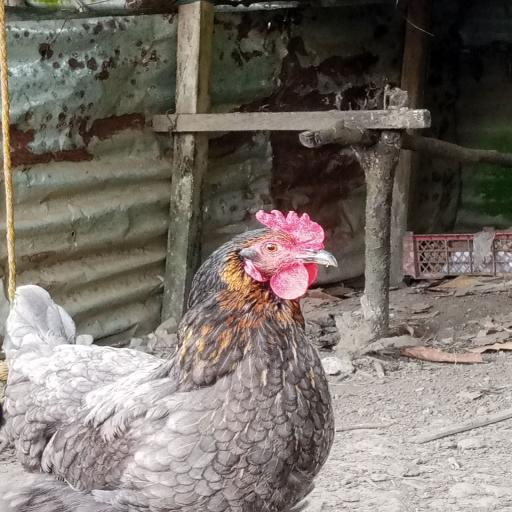healthy: (228, 202, 345, 297)
